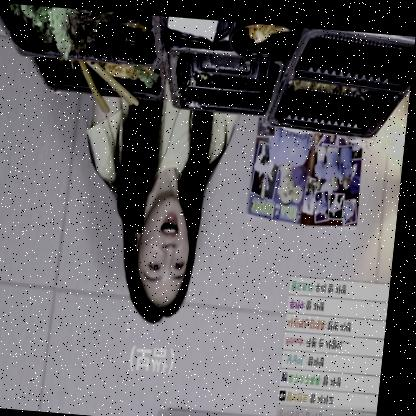streamer: (73, 93, 243, 325)
